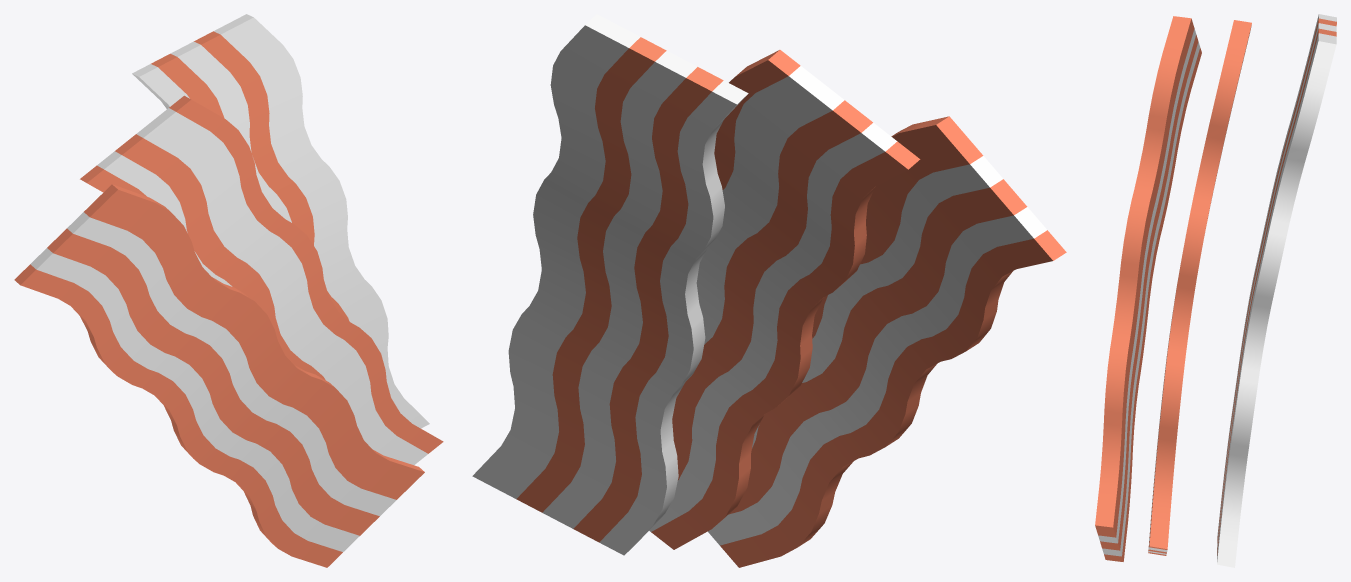
The model's file is bacon.glb.
3 views of the same model, side by side, from view 1: azimuth 30°, elevation 25°; view 2: azimuth 150°, elevation 25°; view 3: azimuth 270°, elevation 25° (orthographic). The views are drawn at different scales.
Parts seen in each view (by area): view 1: Cube.350; view 2: Cube.350; view 3: Cube.350.
Boxes of the visible parts, <box> form: Cube.350: <box>14,14,443,567</box>; Cube.350: <box>472,14,1066,567</box>; Cube.350: <box>1095,14,1336,567</box>.
Bounding box in the file's own units: 2.45 × 2.63 × 1.08.
1 material, 1 textured.
